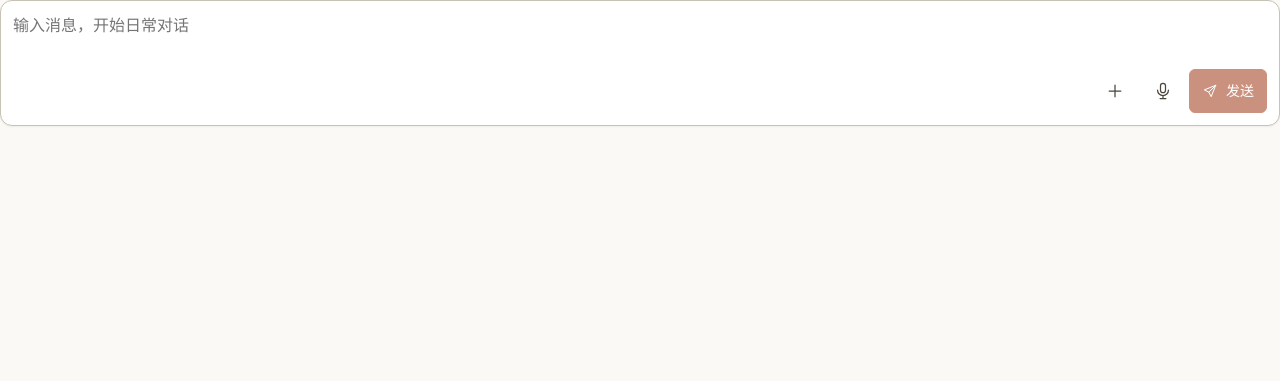
Composer 显式模块菜单（V2 Issue 11） › 选择论文搜索后显示可移除 chip，移除后回到普通聊天且文字不丢失
Type "量子纠错综述" into the text box at (640, 37), box [13,13,1267,61]
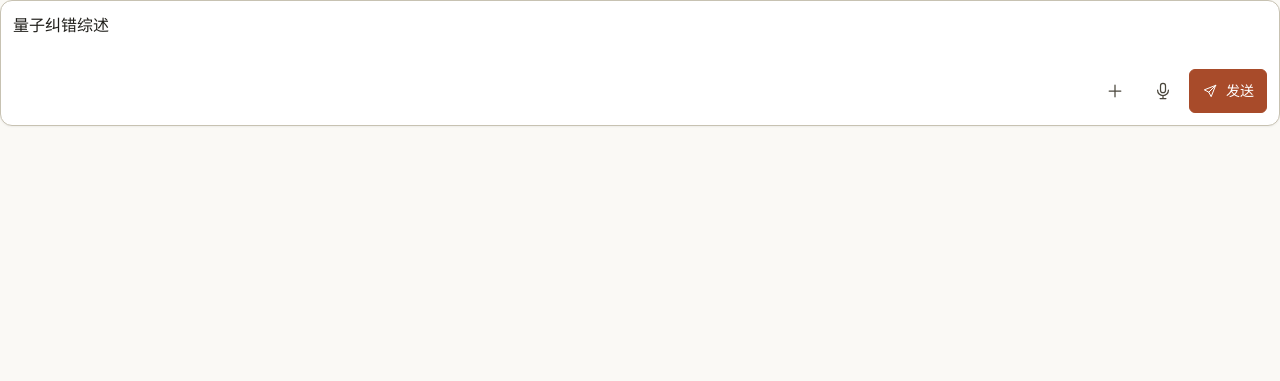
Click the button named "添加功能或文件" at (1115, 91), box [1093,69,1137,113]
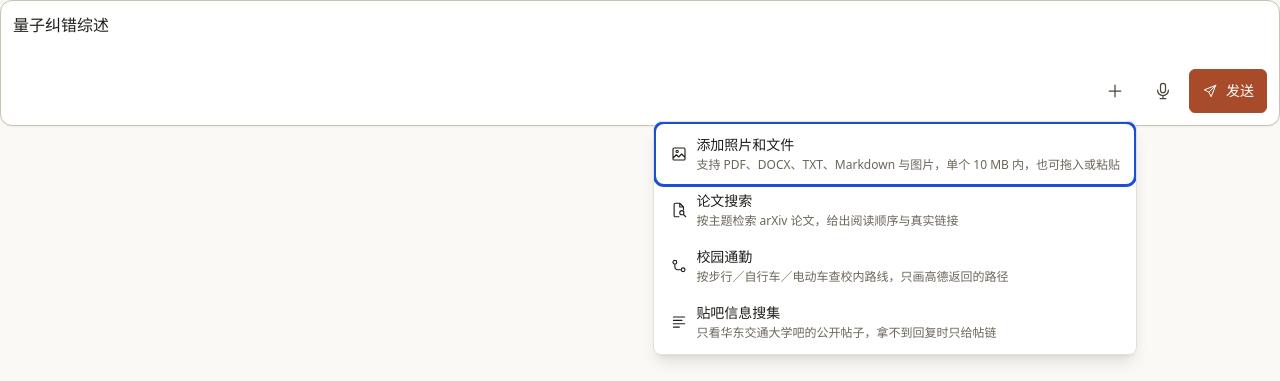
Click the menu item "论文搜索 按主题检索 arXiv 论文，给出阅读顺序与真实链接" at (895, 210), box [658,182,1132,238]
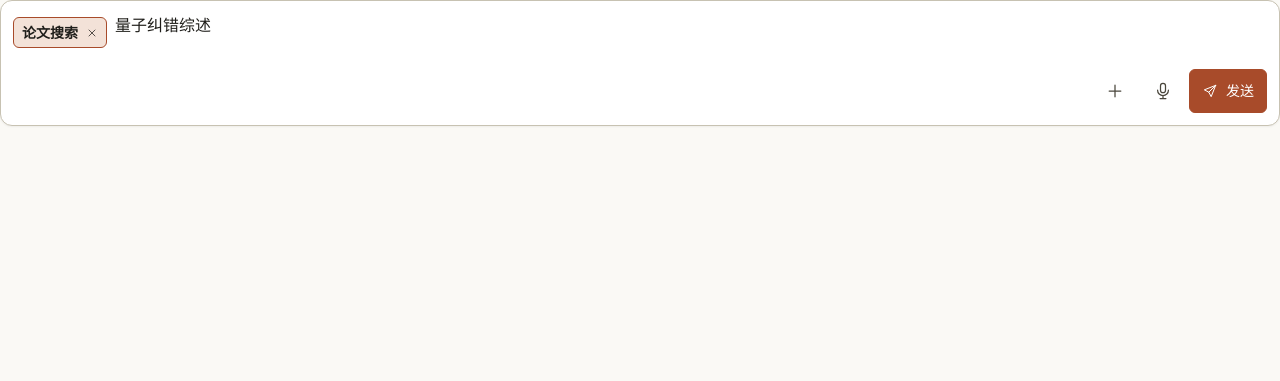
Expected: the element with test id "composer-module-chip" reads "论文搜索", [22,23,78,42]
Click the button named "移除论文搜索模块" at (92, 32), box [82,22,102,42]
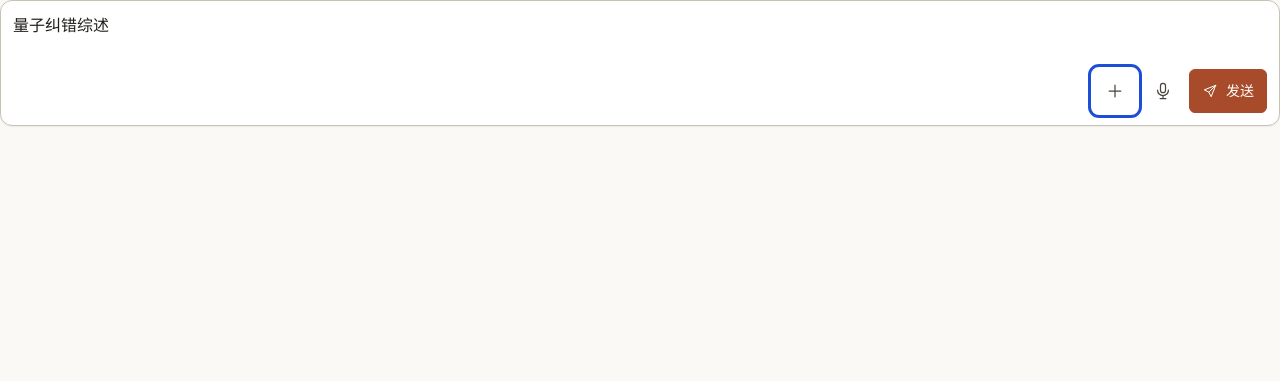
Expected: the element with test id "composer-module-chip" is gone
